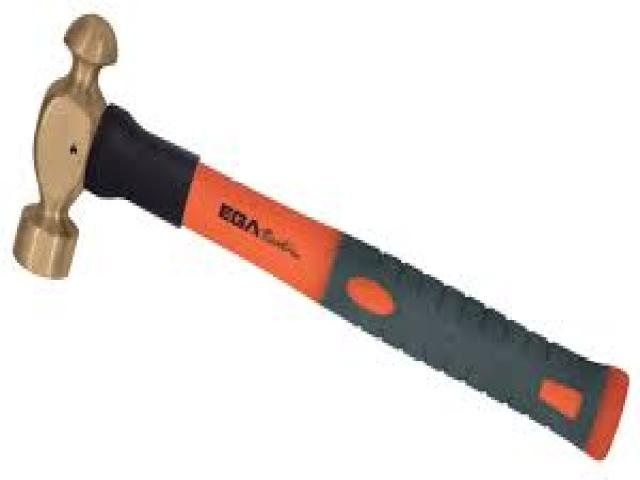Hammer: (14, 15, 624, 458)
